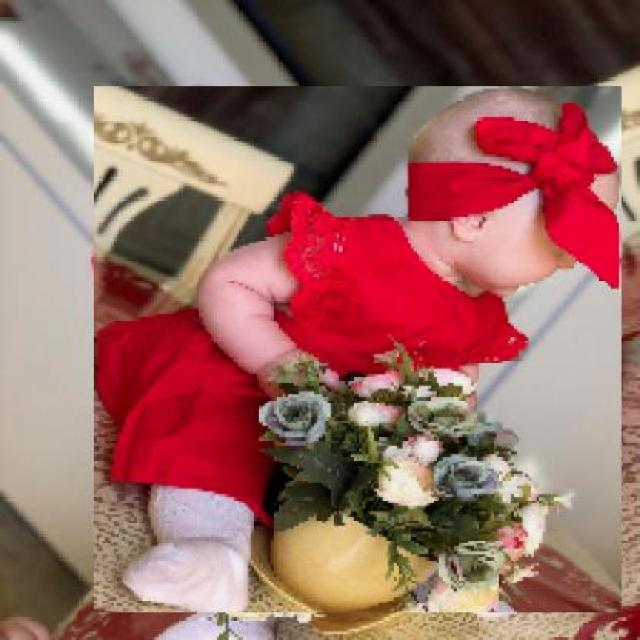child: (93, 86, 622, 614)
